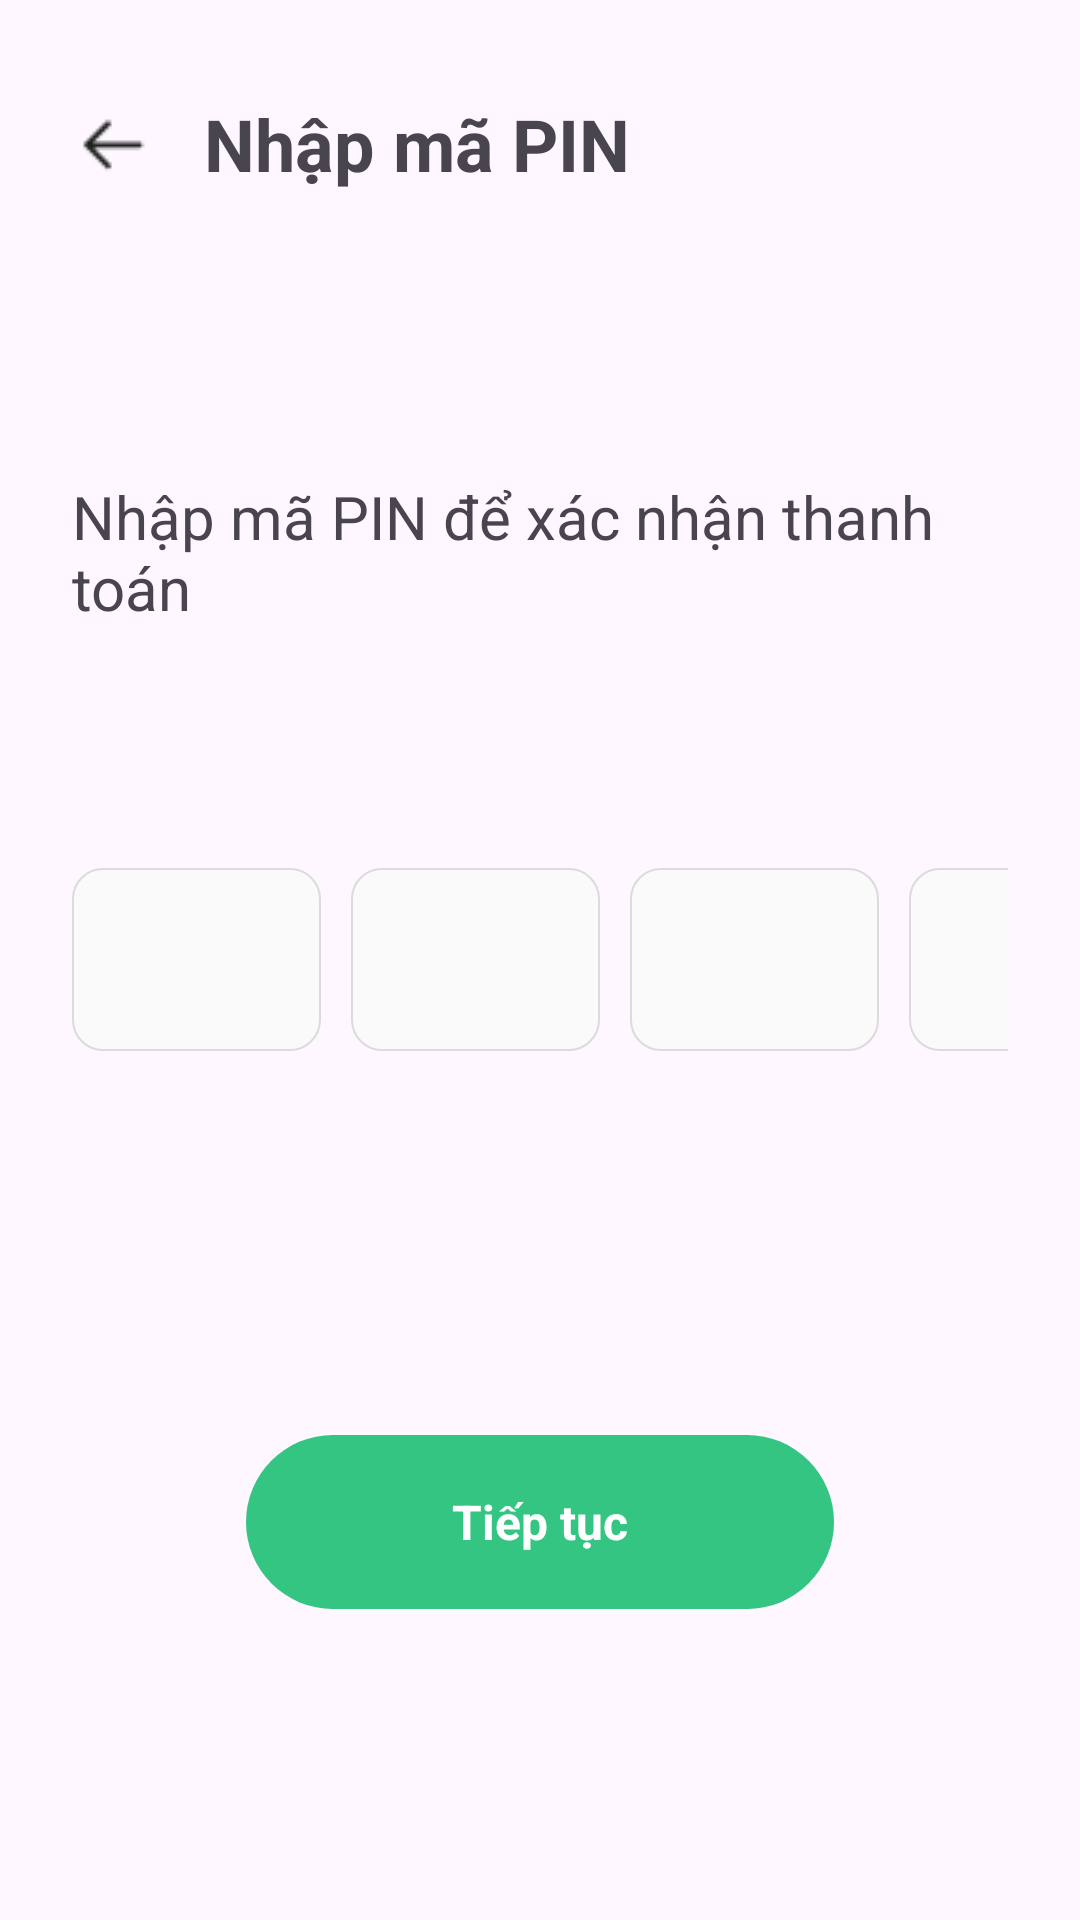

Icons on this 1080x1920 Android screen, each with its box as (x1, y1, x2, y2):
back: (83, 119, 144, 170)
